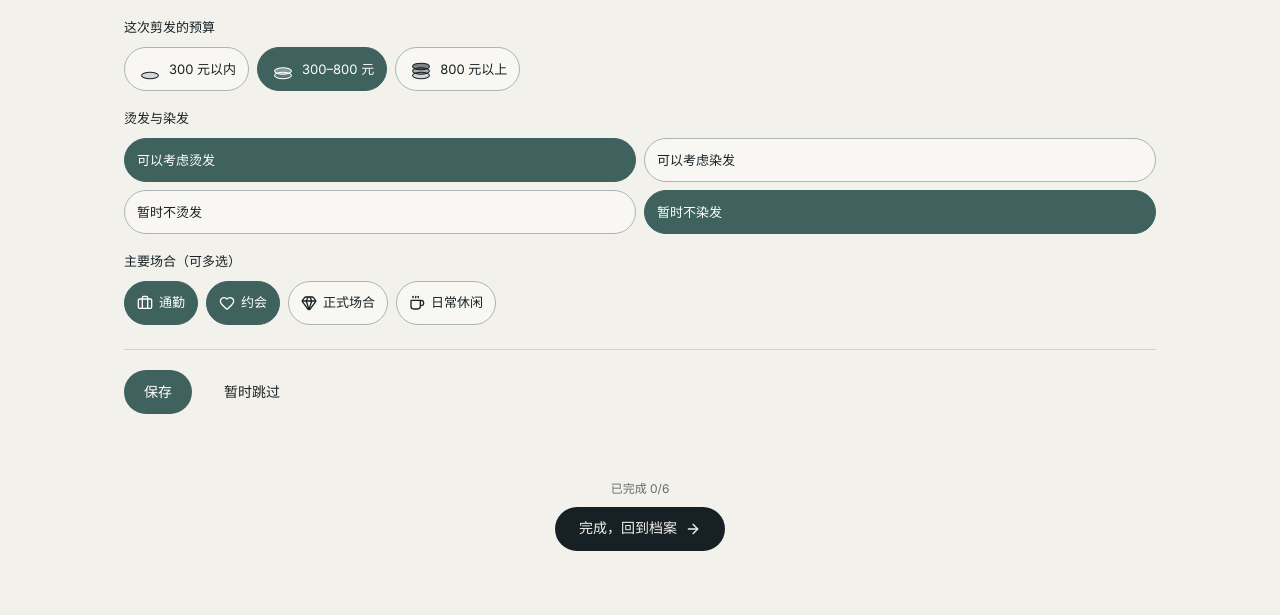
Scenario: A8 enrichment cards › rerank shows the outcome and the change note
The image size is (1280, 615).
(page scrolled)
Click the button "保存" at (158, 392), box [124,370,192,414]
(page scrolled)
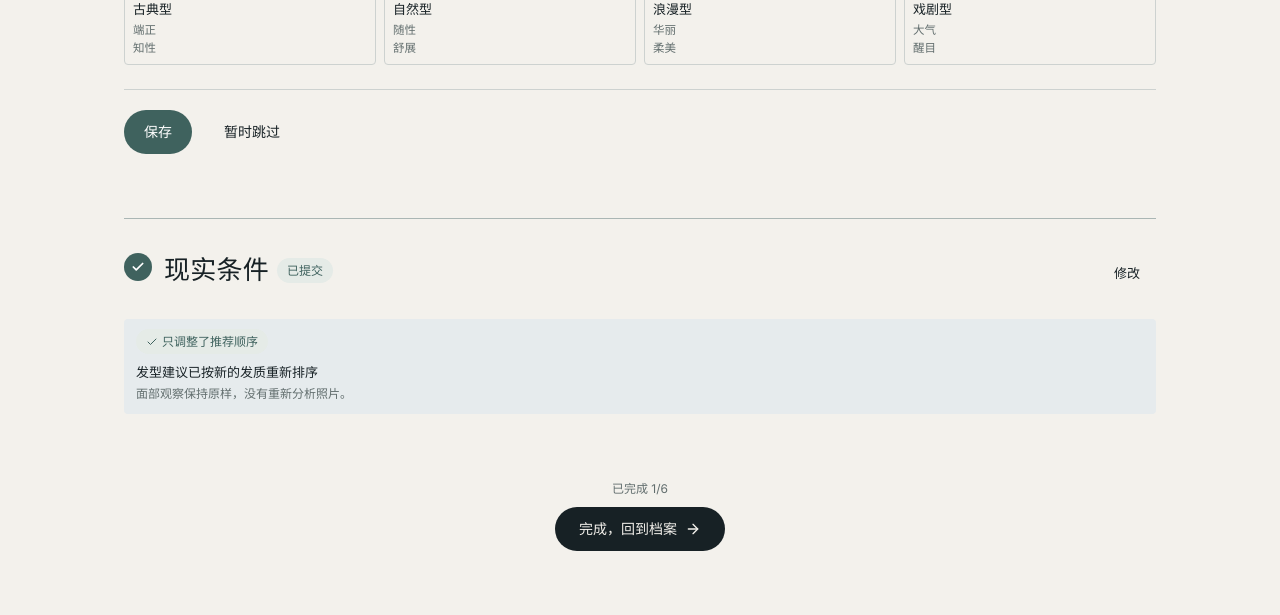
Result: the message shows "只调整了推荐顺序" at [162,334,258,349]
Result: the message shows "发型建议已按新的发质重新排序" at [136,364,318,380]
